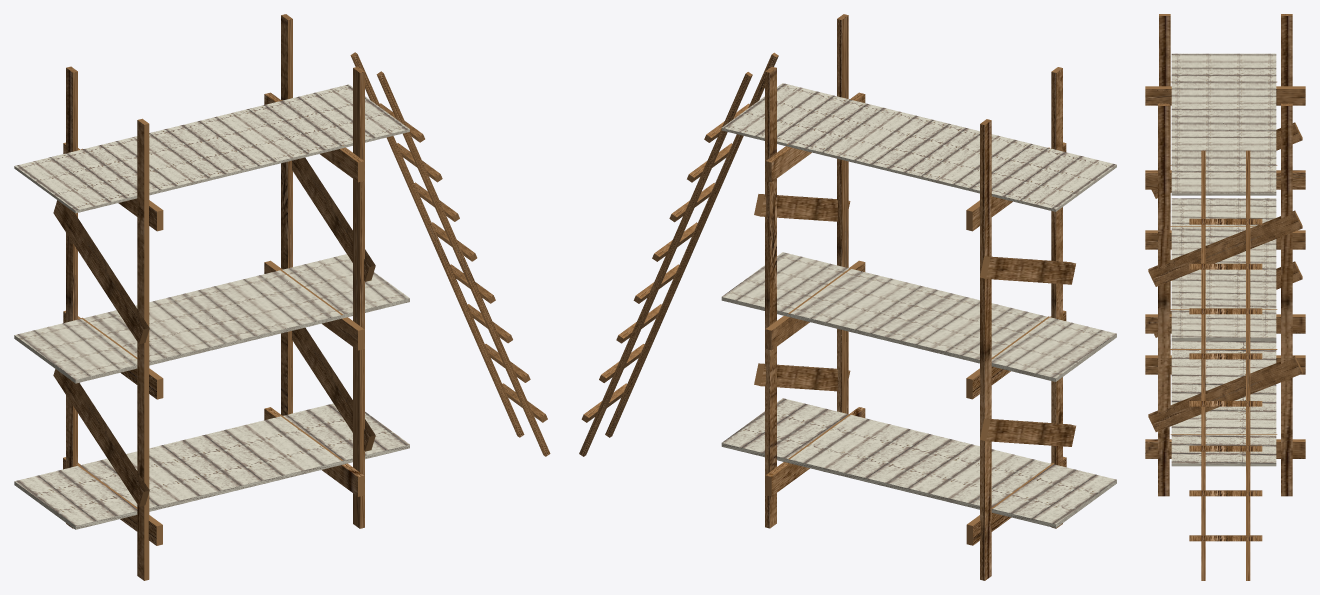
File: AndamioHuman.fbx
The picture shows the model from 3 angles, left to right: view 1: azimuth 30°, elevation 25°; view 2: azimuth 150°, elevation 25°; view 3: azimuth 270°, elevation 25°; orthographic projection. The views are drawn at different scales.
Visible parts, largest first — view 1: Cubo.014; view 2: Cubo.014; view 3: Cubo.014.
Part boxes in pixels (box(x1,y1,x2,y2)): Cubo.014: box(14, 14, 550, 580); Cubo.014: box(579, 14, 1116, 580); Cubo.014: box(1145, 14, 1305, 580).
Bounding box in the file's own units: 613 × 542 × 202.
2 materials, 2 textured.
